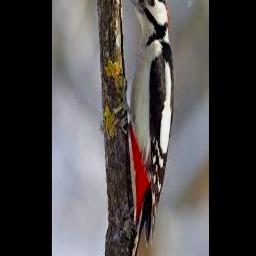Woodpecker: (117, 0, 175, 256)
